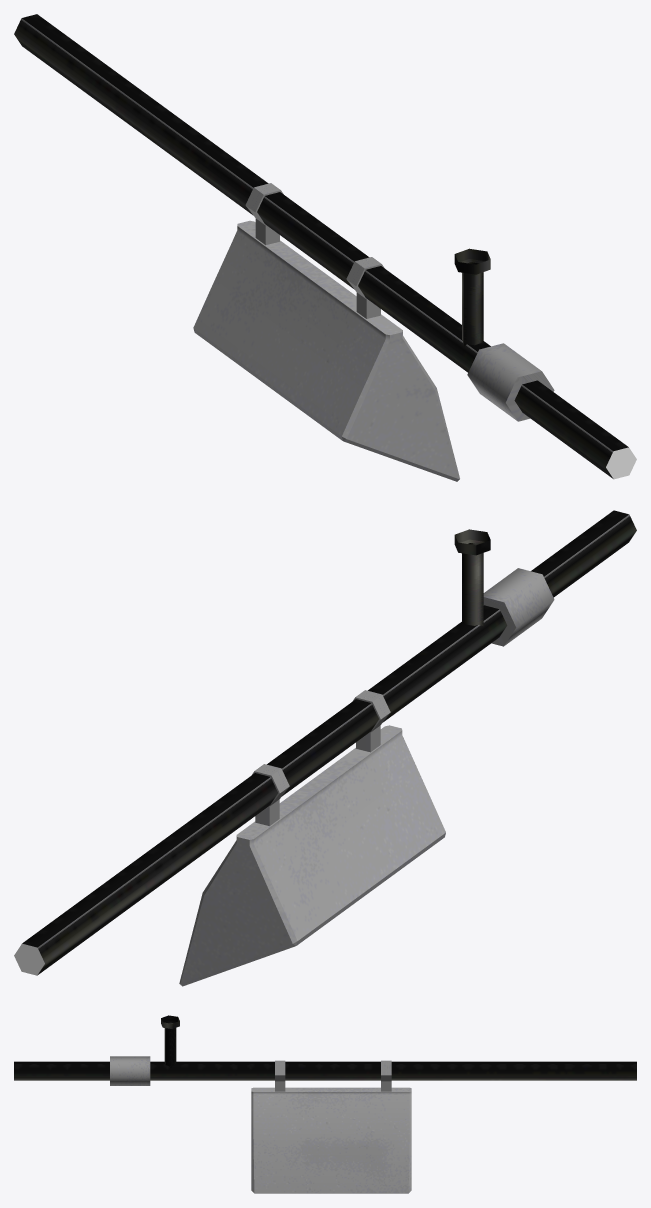
File: spotlight.fbx
The picture shows the model from 3 angles, top to bottom: view 1: azimuth 30°, elevation 25°; view 2: azimuth 150°, elevation 25°; view 3: azimuth 270°, elevation 25°; orthographic projection. The views are drawn at different scales.
Visible parts, largest first — view 1: spotlight, stick, Joint, stick1; view 2: spotlight, stick, Joint, stick1; view 3: spotlight, stick, Joint, stick1.
Part boxes in pixels (x1,y1,x2,y2): spotlight: (193, 183, 459, 481); stick: (14, 14, 636, 479); Joint: (467, 343, 554, 421); stick1: (454, 248, 490, 346); spotlight: (179, 690, 445, 986); stick: (14, 510, 636, 975); Joint: (483, 568, 554, 646); stick1: (454, 529, 490, 626); spotlight: (251, 1060, 411, 1193); stick: (14, 1061, 636, 1080); Joint: (110, 1056, 150, 1085); stick1: (161, 1015, 179, 1067).
Bounding box in the file's own units: 22.12 × 53.01 × 190.
